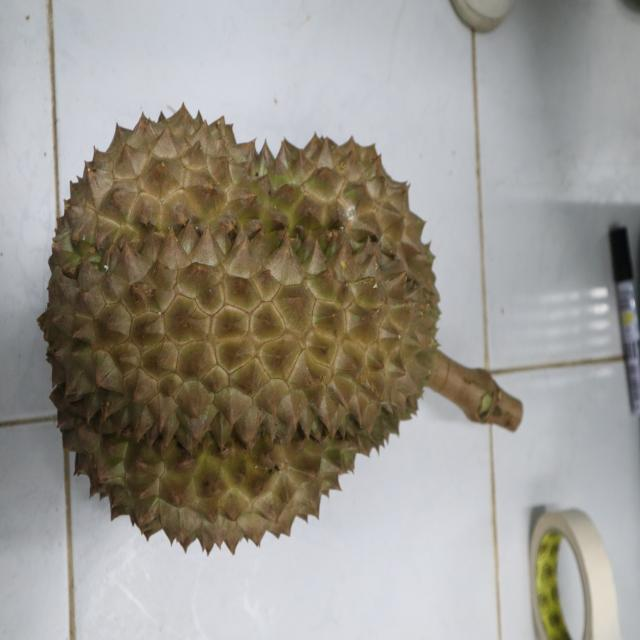mature: (37, 100, 442, 559)
